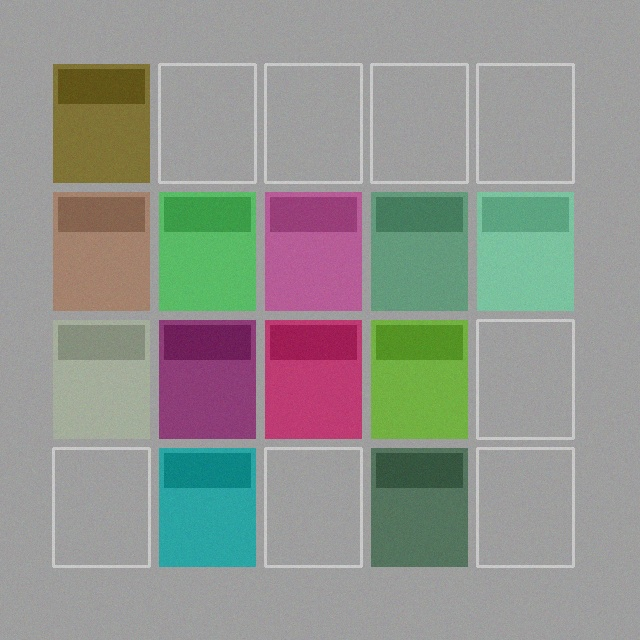space-empty: (159, 64, 255, 182), (265, 64, 361, 182), (371, 64, 467, 182), (477, 64, 573, 182), (477, 320, 573, 438), (53, 448, 149, 566), (265, 448, 361, 566), (477, 448, 573, 566)
space-occupied: (53, 64, 149, 182), (53, 192, 149, 310), (159, 192, 255, 310), (265, 192, 361, 310), (371, 192, 467, 310), (477, 192, 573, 310), (53, 320, 149, 438), (159, 320, 255, 438), (265, 320, 361, 438), (371, 320, 467, 438), (159, 448, 255, 566), (371, 448, 467, 566)
